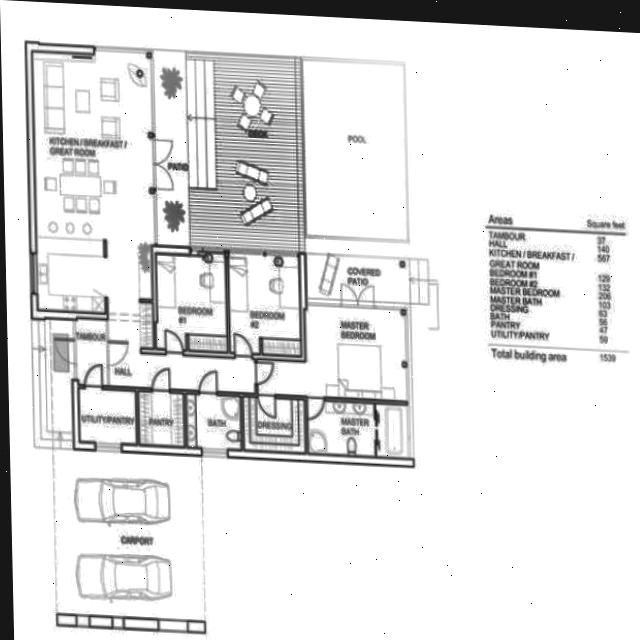room: (0, 17, 263, 450), (255, 302, 414, 405), (154, 248, 227, 353), (229, 253, 301, 357), (304, 255, 409, 301), (306, 402, 378, 457), (76, 389, 139, 444), (139, 391, 185, 448), (197, 395, 241, 451), (257, 397, 292, 437)
